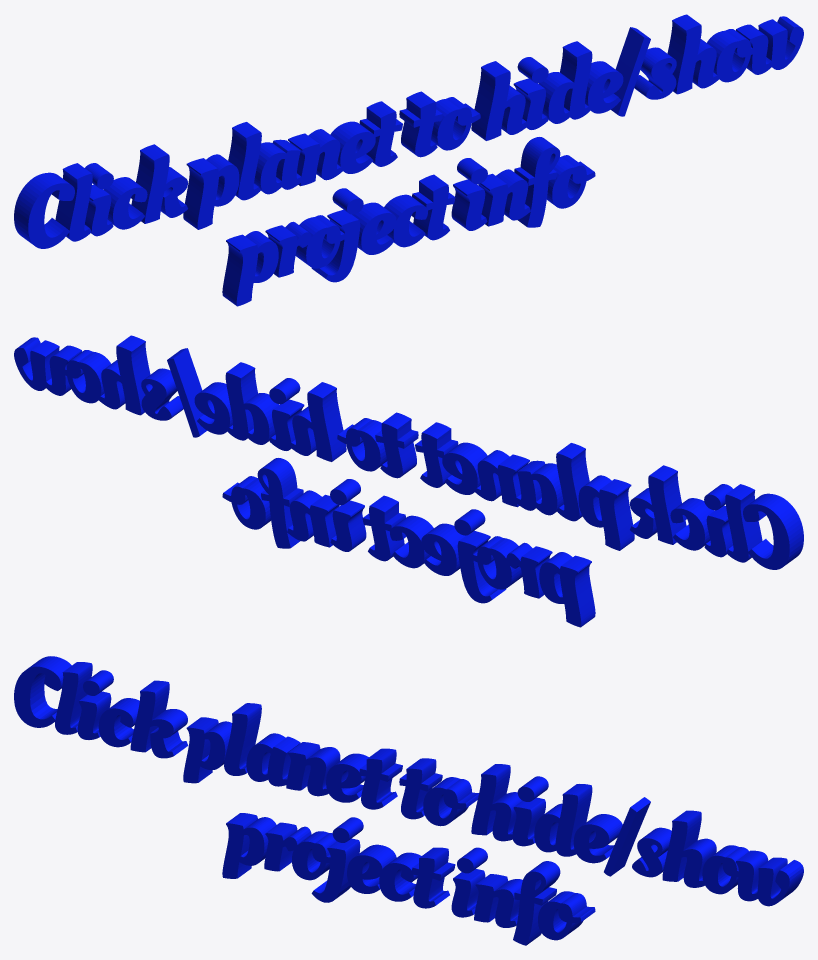
File: text-for-proj.glb
3 renders of one model, top to bottom at view 1: azimuth 30°, elevation 25°; view 2: azimuth 150°, elevation 25°; view 3: azimuth 330°, elevation 25°, orthographic.
Parts seen in each view (by area): view 1: 3D Text - o (×4), 3D Text - p (×2), 3D Text - h (×2), 3D Text - t (×3), 3D Text - i (×3), 3D Text - e (×3), 3D Text - n (×2), 3D Text - l (×2), 3D Text - c (×2), 3D Text - C, 3D Text - d, 3D Text - k (+7 smaller); view 2: 3D Text - o (×4), 3D Text - p (×2), 3D Text - h (×2), 3D Text - t (×3), 3D Text - i (×3), 3D Text - e (×3), 3D Text - n (×2), 3D Text - l (×2), 3D Text - c (×2), 3D Text - C, 3D Text - d, 3D Text - k (+7 smaller); view 3: 3D Text - o (×4), 3D Text - h (×2), 3D Text - t (×3), 3D Text - i (×3), 3D Text - e (×3), 3D Text - p (×2), 3D Text - n (×2), 3D Text - l (×2), 3D Text - k, 3D Text - c (×2), 3D Text - w, 3D Text - d (+7 smaller).
Boxes of the visible parts, box(x1,y1,x2,y2) form: 3D Text - o (×4): box(295, 29, 759, 268); 3D Text - p (×2): box(183, 154, 278, 306); 3D Text - h (×2): box(471, 14, 718, 140); 3D Text - t (×3): box(359, 91, 455, 240); 3D Text - i (×3): box(85, 57, 548, 236); 3D Text - e (×3): box(330, 61, 623, 254); 3D Text - n (×2): box(288, 129, 530, 226); 3D Text - l (×2): box(55, 122, 261, 241); 3D Text - c (×2): box(103, 177, 427, 247); 3D Text - C: box(14, 172, 74, 248); 3D Text - d: box(538, 41, 592, 123); 3D Text - k: box(131, 144, 187, 223); 3D Text - o (×4): box(58, 350, 522, 589); 3D Text - p (×2): box(539, 475, 634, 627); 3D Text - h (×2): box(98, 335, 346, 461); 3D Text - t (×3): box(362, 412, 458, 561); 3D Text - i (×3): box(269, 378, 732, 557); 3D Text - e (×3): box(194, 382, 487, 575); 3D Text - n (×2): box(287, 450, 529, 547); 3D Text - l (×2): box(556, 443, 762, 562); 3D Text - c (×2): box(390, 498, 714, 568); 3D Text - C: box(743, 493, 803, 569); 3D Text - d: box(225, 362, 279, 444); 3D Text - k: box(630, 465, 686, 544); 3D Text - o (×4): box(292, 777, 748, 940); 3D Text - h (×2): box(471, 764, 716, 887); 3D Text - t (×3): box(359, 748, 455, 908); 3D Text - i (×3): box(77, 670, 548, 917); 3D Text - e (×3): box(326, 753, 622, 893); 3D Text - p (×2): box(183, 717, 276, 878); 3D Text - n (×2): box(286, 742, 522, 927); 3D Text - l (×2): box(55, 662, 261, 775); 3D Text - k: box(130, 680, 188, 758); 3D Text - c (×2): box(98, 698, 421, 901); 3D Text - w: box(735, 850, 803, 906); 3D Text - d: box(534, 784, 592, 856).
Bounding box in the file's own units: 0.0451 × 0.00944 × 0.00144.
